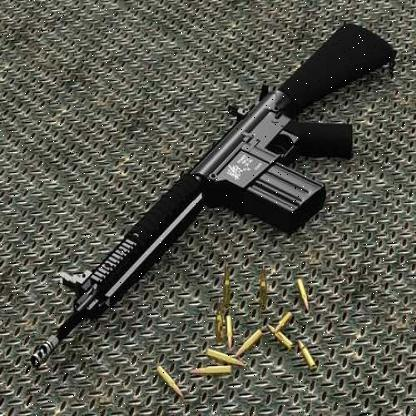rifle: (10, 10, 405, 388)
